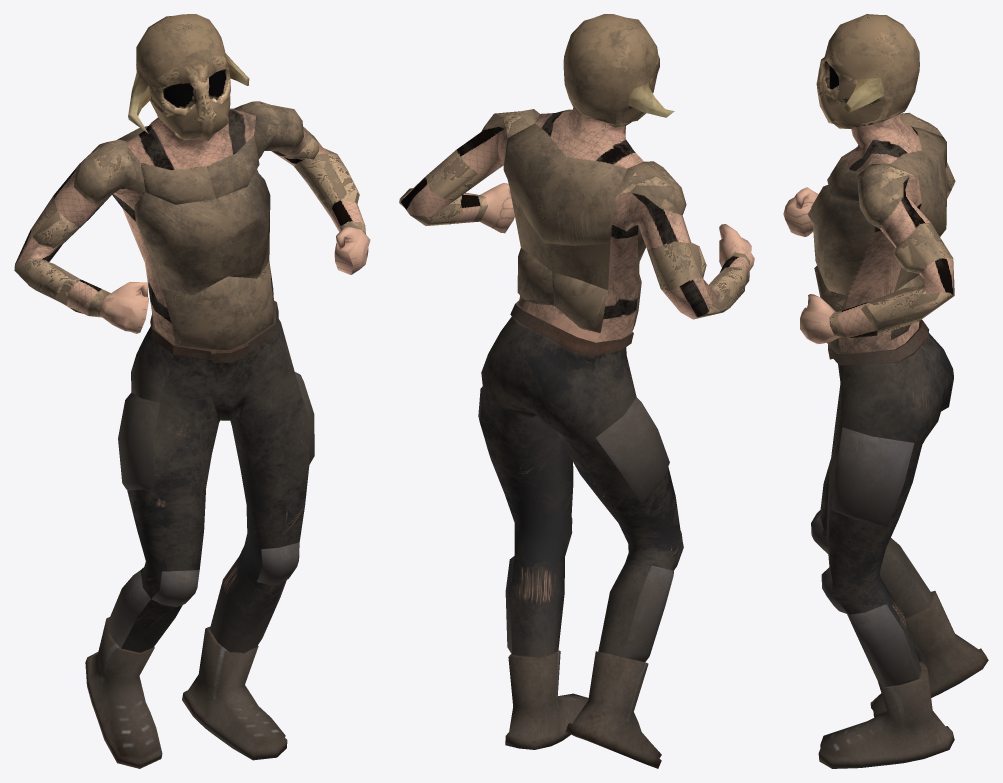
Rendered from Anim_ataque_d2_npc1.0026.obj.
The picture shows the model from 3 angles, left to right: view 1: azimuth 30°, elevation 25°; view 2: azimuth 150°, elevation 25°; view 3: azimuth 270°, elevation 25°; orthographic projection. The views are drawn at different scales.
Visible parts, largest first — view 1: NPC2; view 2: NPC2; view 3: NPC2.
Part boxes in pixels (x1,y1,x2,y2): NPC2: (14, 14, 370, 768); NPC2: (399, 14, 754, 768); NPC2: (783, 14, 988, 768).
Bounding box in the file's own units: 4.29 × 9.5 × 2.46.
